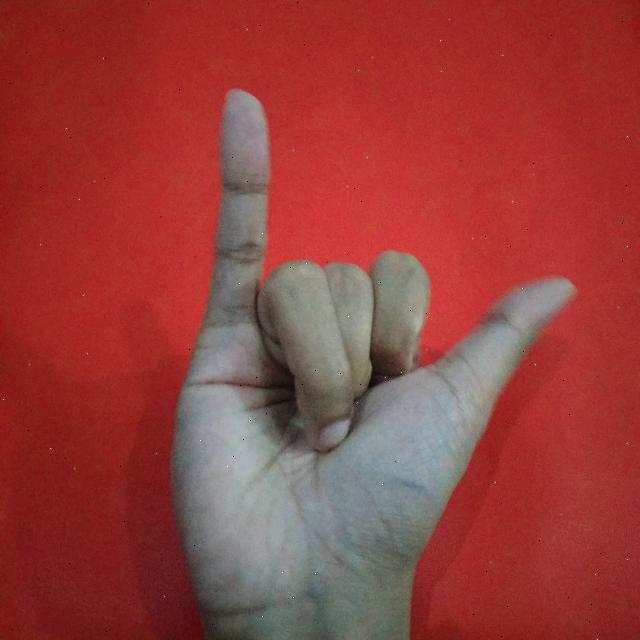Y: (157, 80, 582, 640)
